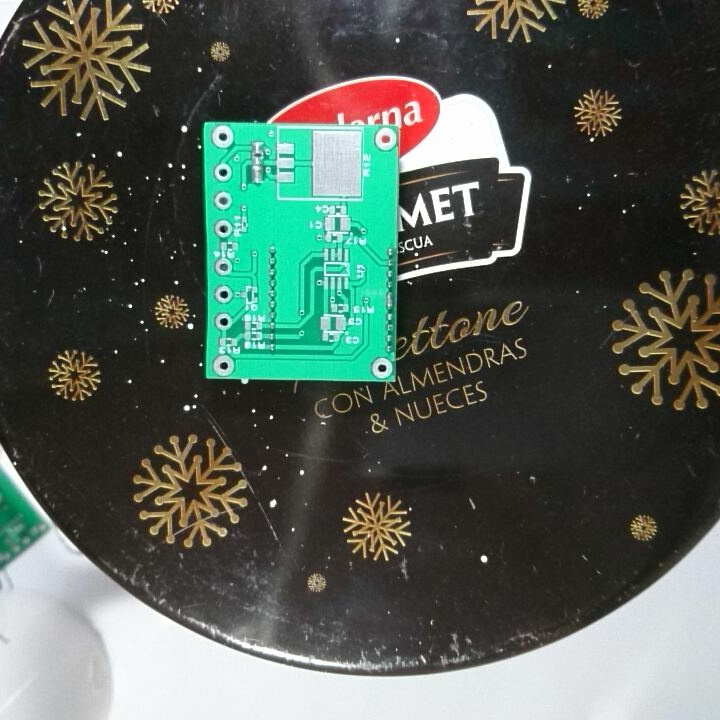F: (372, 126, 399, 154), (210, 124, 236, 150), (211, 352, 237, 376), (370, 355, 394, 380), (212, 189, 234, 213), (213, 160, 234, 185), (212, 217, 234, 240), (212, 255, 235, 277), (212, 283, 234, 306), (212, 311, 235, 332)
P: (248, 153, 267, 188), (382, 289, 396, 315)
